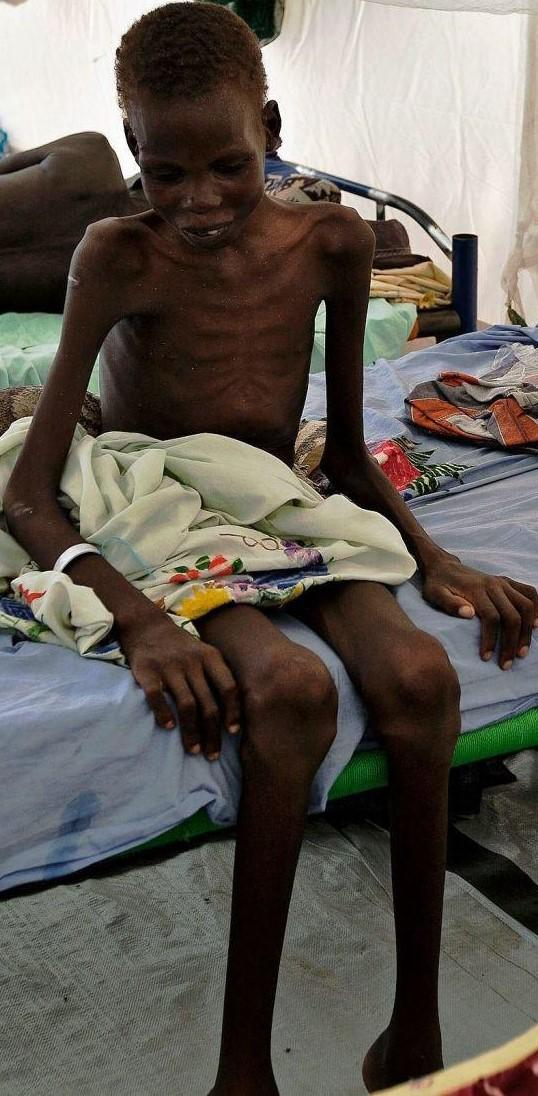Stunting: (83, 27, 325, 275)
